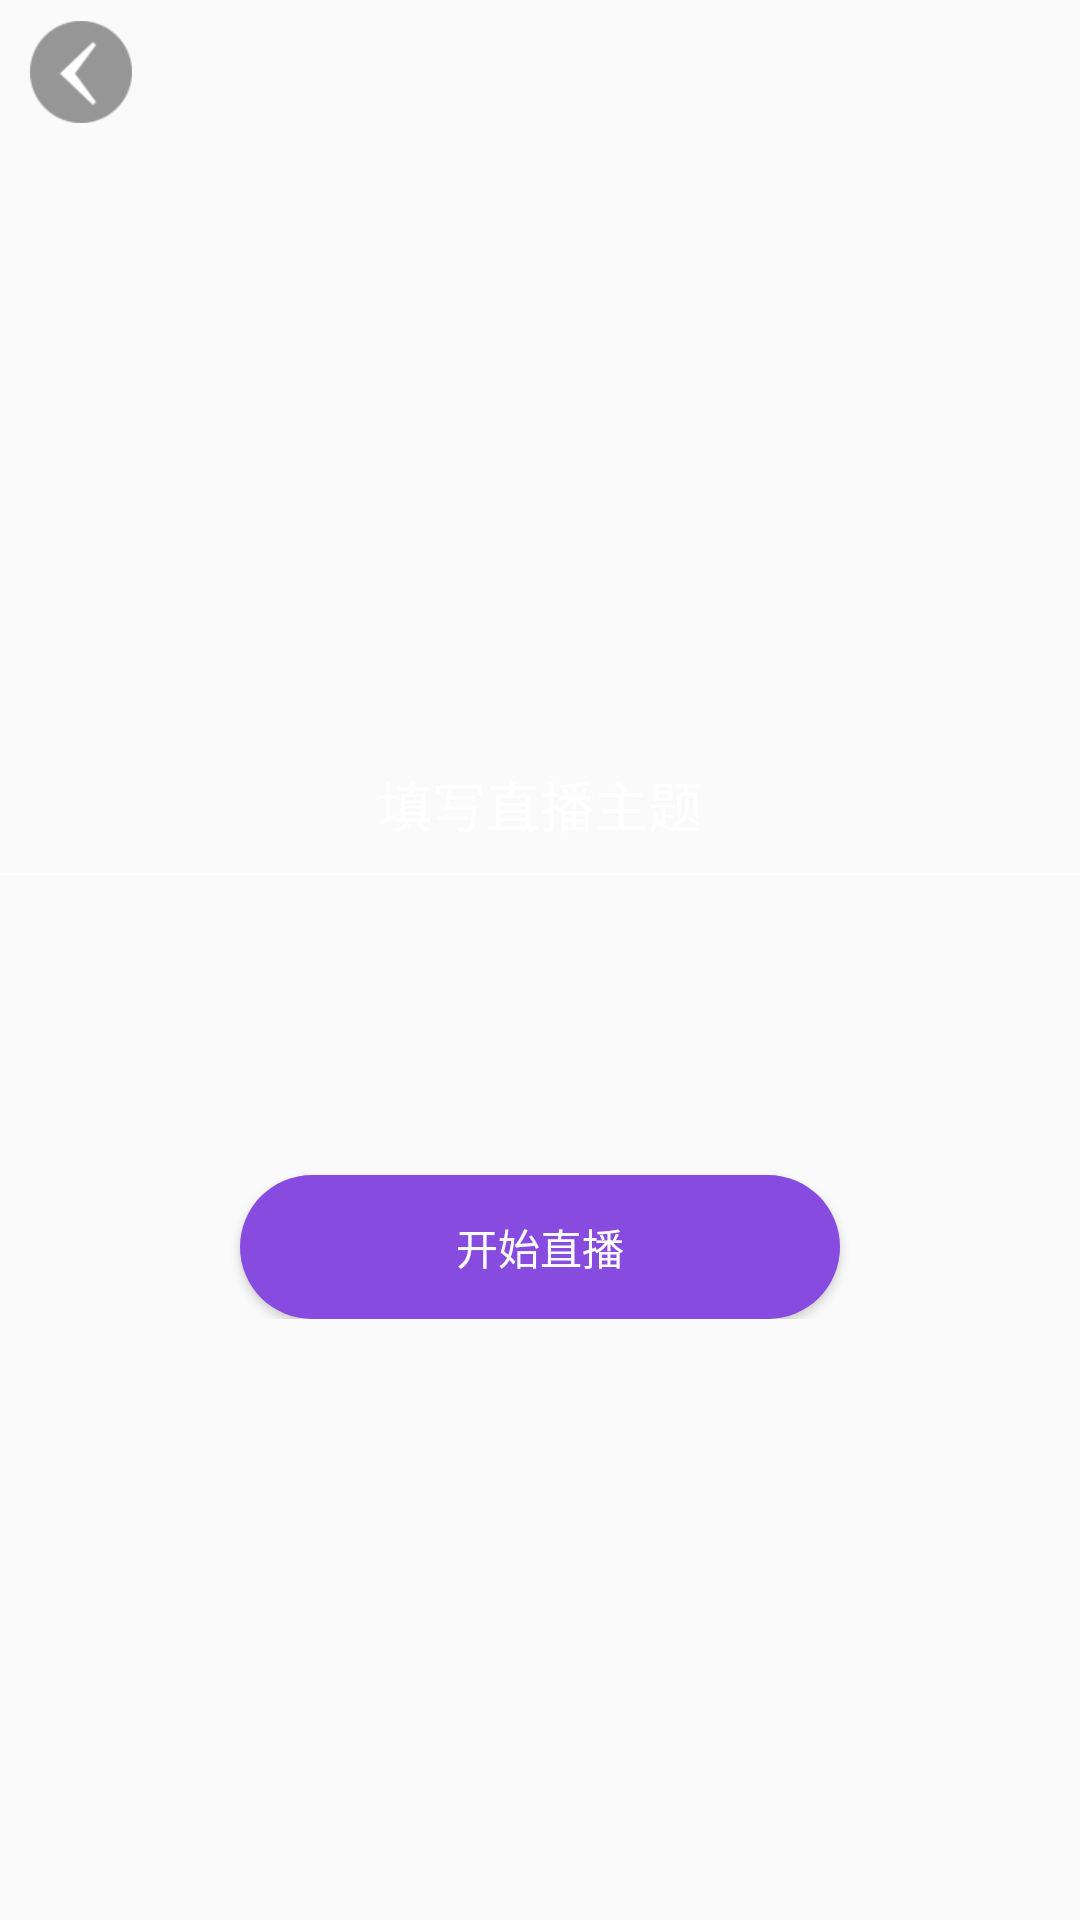

Icon click points for this 1080 × 1920 phone screenshot, format [x,y]:
navi back: [81,72]
